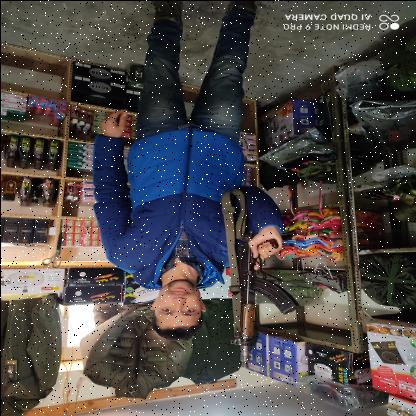rifle: (226, 230, 302, 368)
